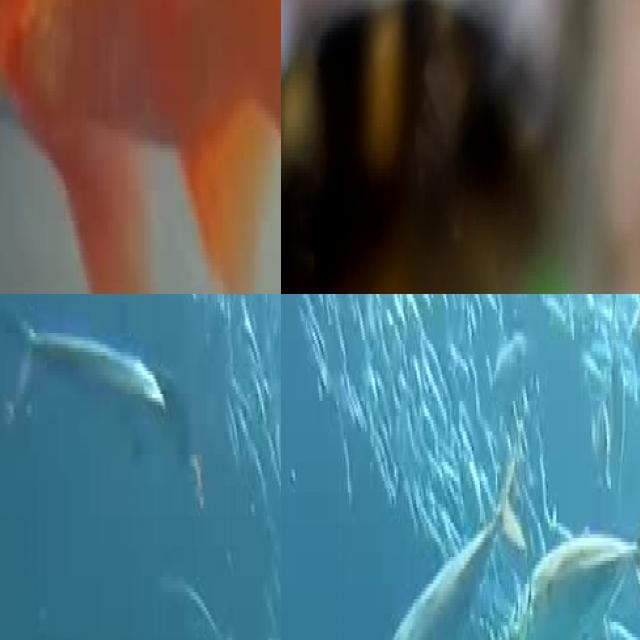fish: (0, 0, 281, 294), (281, 0, 560, 294)
